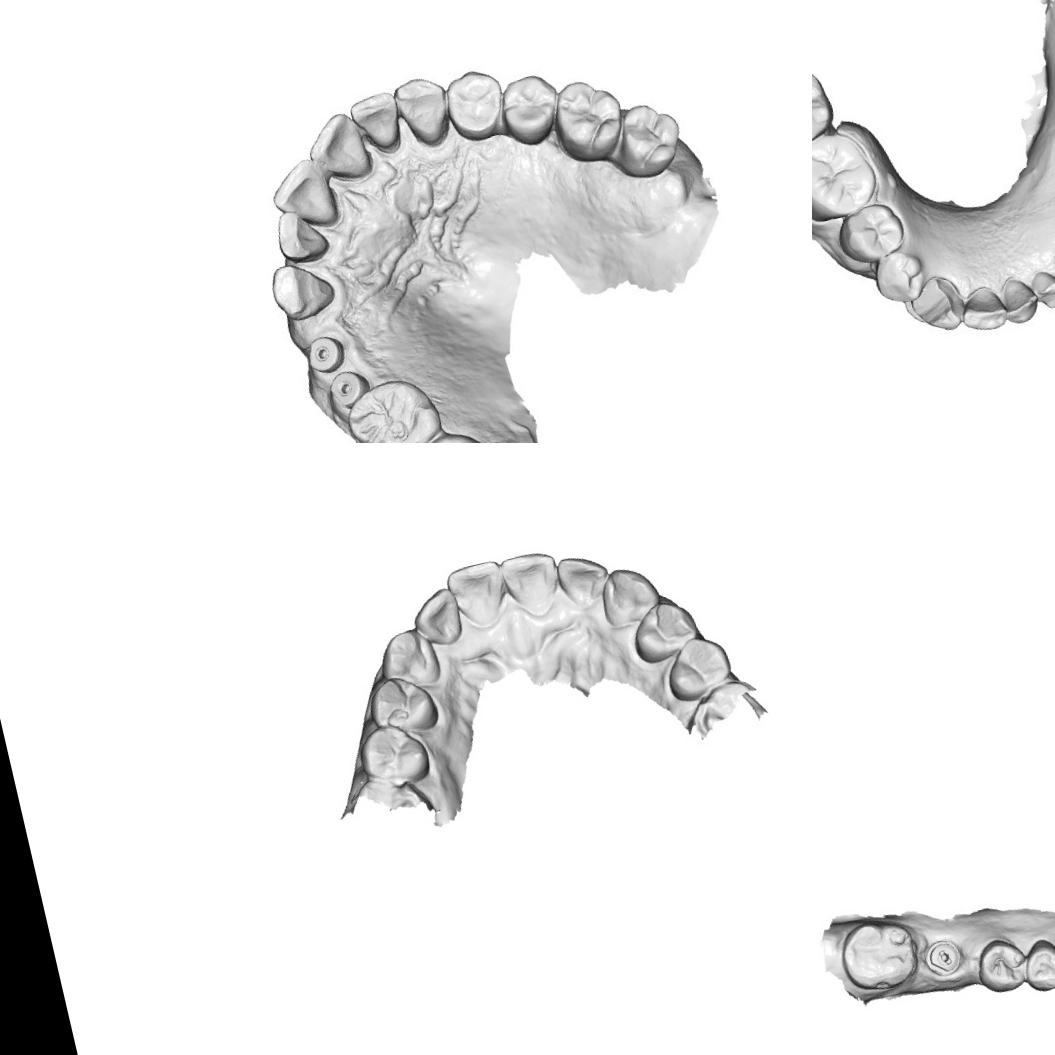canine: (387, 66, 458, 154), (263, 252, 340, 327), (372, 621, 446, 698), (594, 558, 668, 633)
crown: (903, 274, 965, 340)
implant: (302, 328, 348, 374), (326, 366, 368, 408)
implant_minus: (922, 936, 965, 980)
incisor: (266, 155, 341, 236), (495, 544, 570, 624), (440, 556, 514, 634), (305, 106, 373, 186), (552, 548, 616, 614), (406, 584, 468, 652), (349, 85, 405, 159), (274, 209, 330, 264), (961, 285, 1006, 336), (1001, 276, 1043, 327), (1028, 268, 1055, 311)
molar: (548, 68, 635, 166), (603, 92, 692, 184), (833, 912, 925, 998), (341, 374, 442, 443), (812, 131, 877, 216), (812, 66, 837, 148)
premolar: (352, 715, 436, 795), (656, 627, 738, 708), (363, 668, 444, 746), (439, 60, 510, 146), (624, 594, 705, 668), (494, 70, 562, 150), (971, 933, 1033, 998), (840, 204, 904, 260), (874, 247, 928, 302), (1018, 932, 1055, 995)
